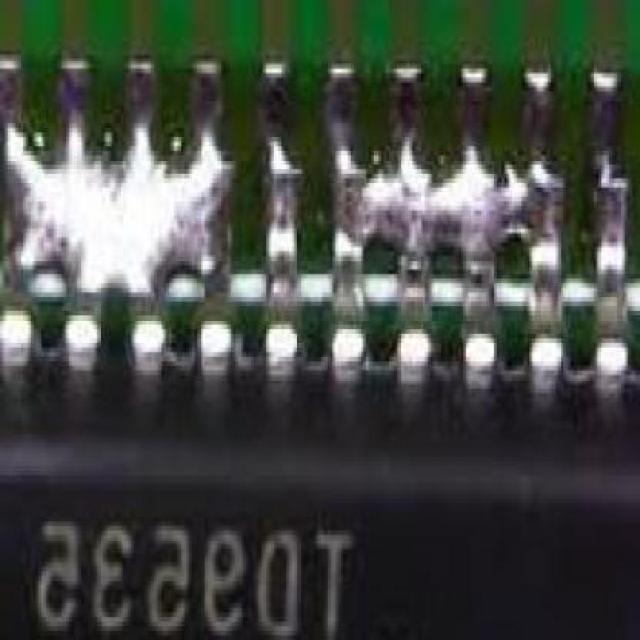Soldering shorted: (0, 105, 235, 283), (330, 124, 564, 261)
